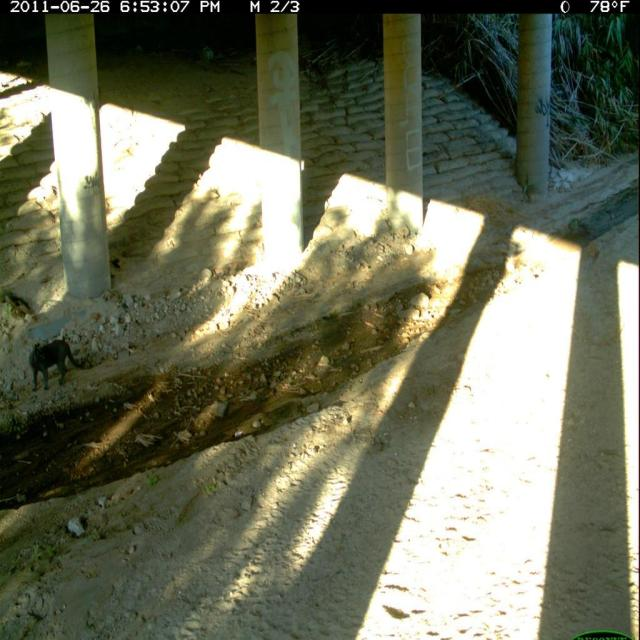cat: (27, 334, 91, 397)
